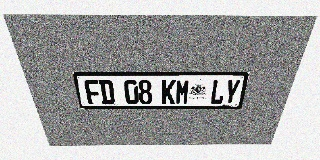0: (123, 79, 139, 104)
8: (138, 79, 152, 104)
D: (98, 79, 115, 104)
F: (83, 79, 102, 104)
K: (162, 79, 176, 104)
L: (209, 79, 227, 104)
M: (175, 79, 190, 104)
Y: (223, 79, 241, 104)
